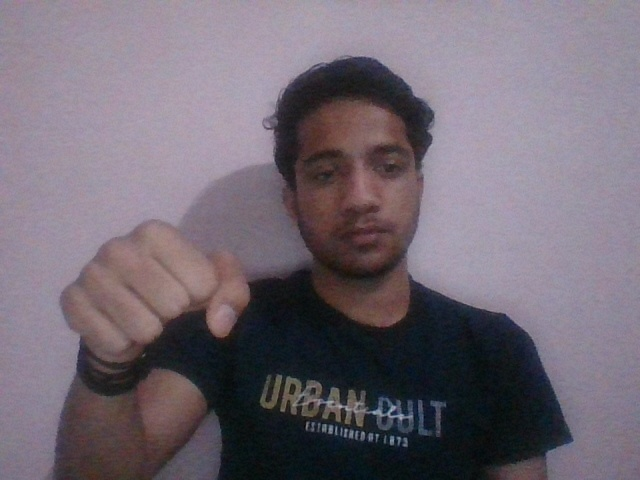yes: (54, 214, 252, 366)
